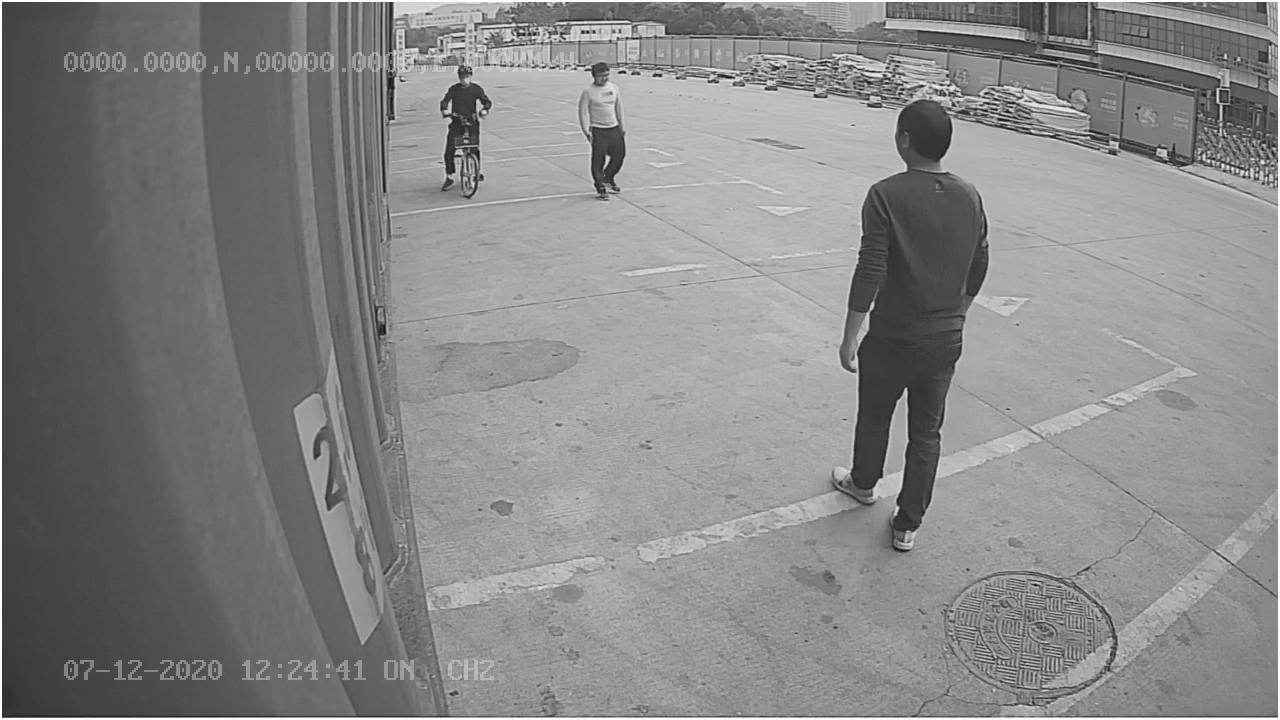person: (573, 58, 631, 201)
